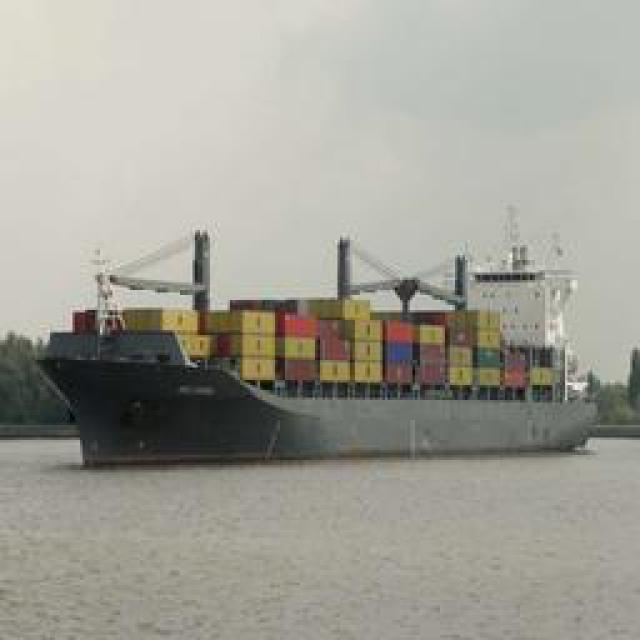Ship: (35, 255, 605, 458)
